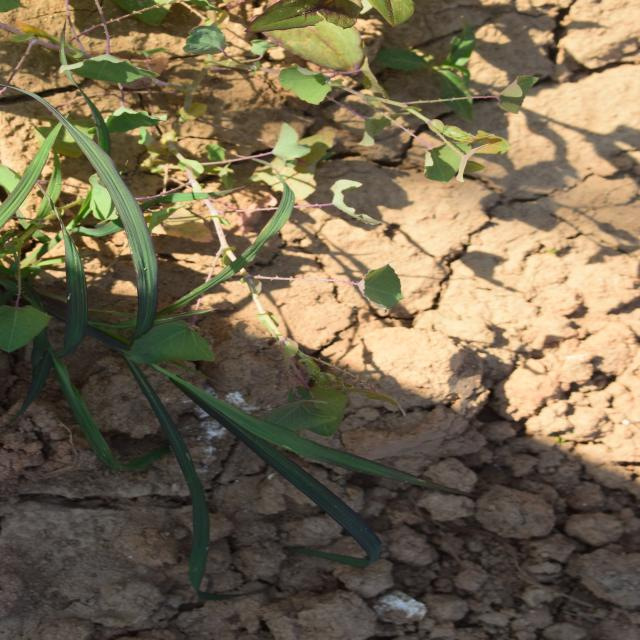Asiatic_Smartweed: (68, 107, 174, 274), (35, 459, 153, 574), (264, 213, 312, 338)
